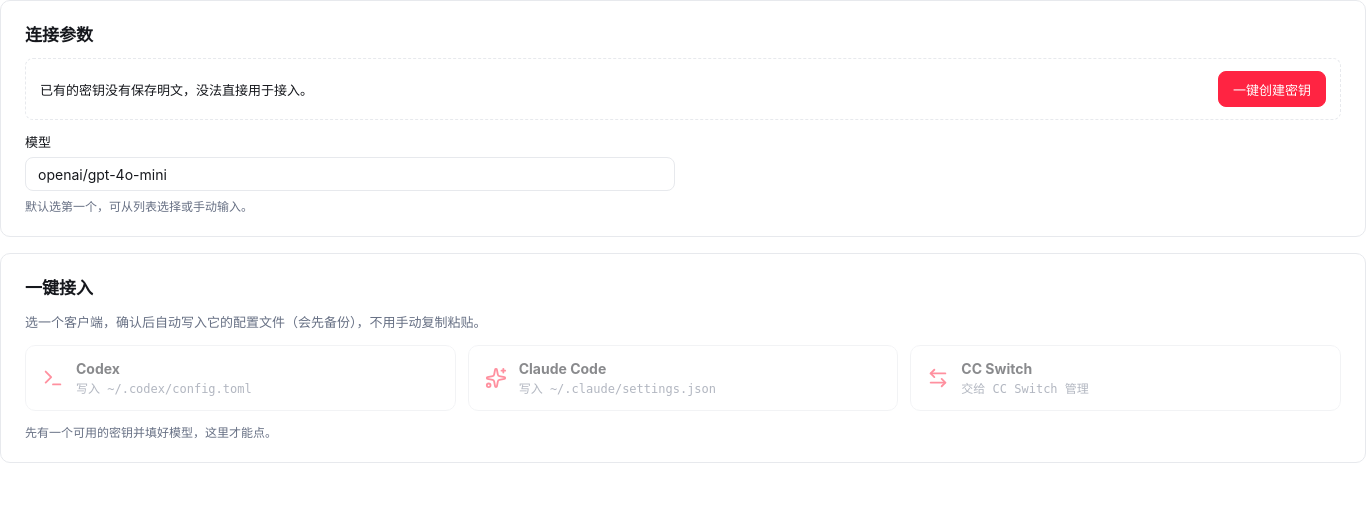
Scenario: ConnectPanel · 连接参数 › 只有旧密钥（没存明文）时给出对应说明；创建失败显示原因
Click the button with test id "create-key": coordinates (1272, 89) x1=1218 y1=71 x2=1326 y2=107
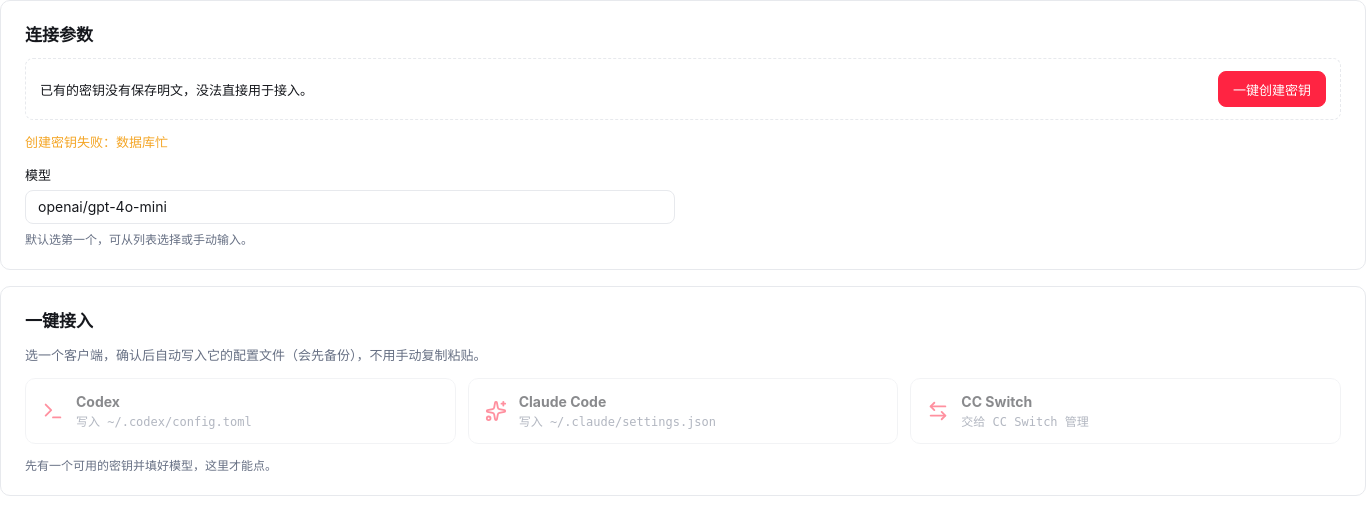
Expected: the message with test id "create-error" shows "数据库忙", x1=25 y1=134 x2=168 y2=150
